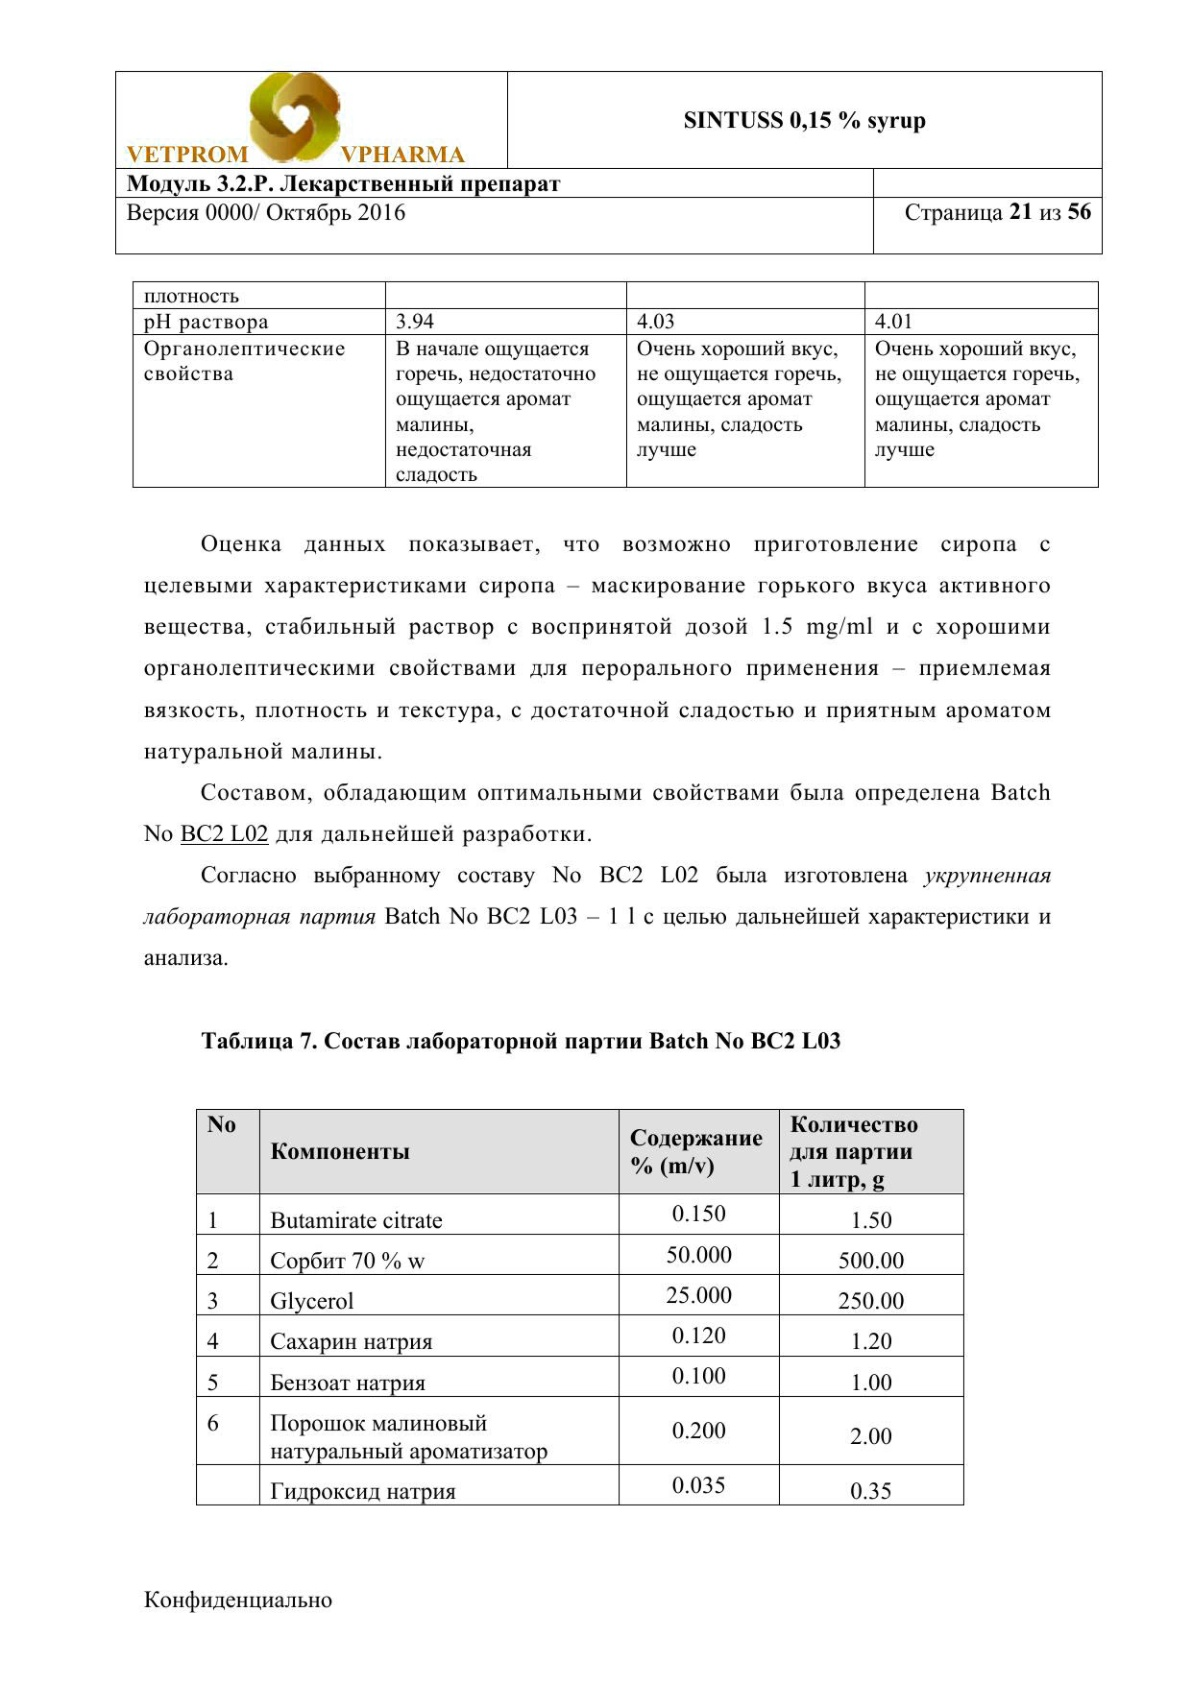full_lined: (195, 1108, 965, 1507), (132, 280, 1100, 489)
merged_cells: (114, 70, 1104, 255)
